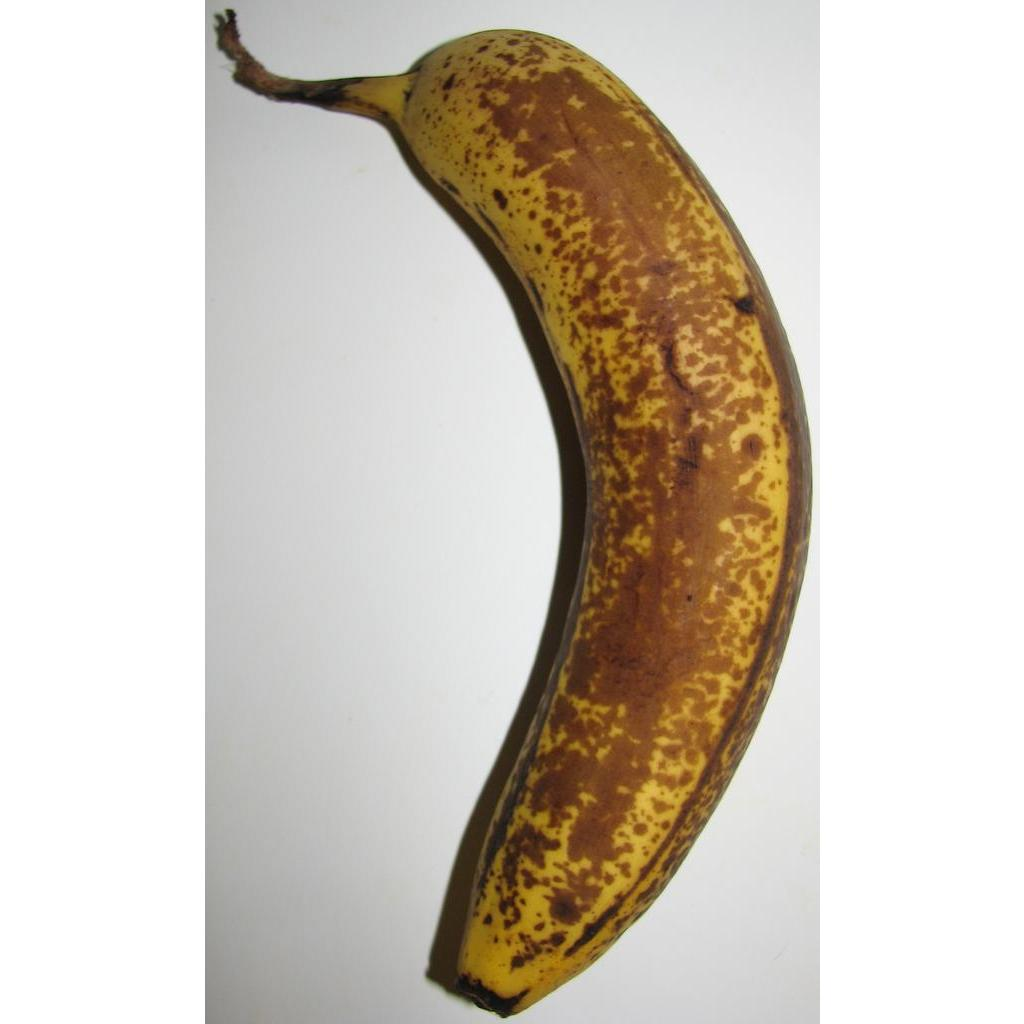banana: (213, 9, 811, 1014)
